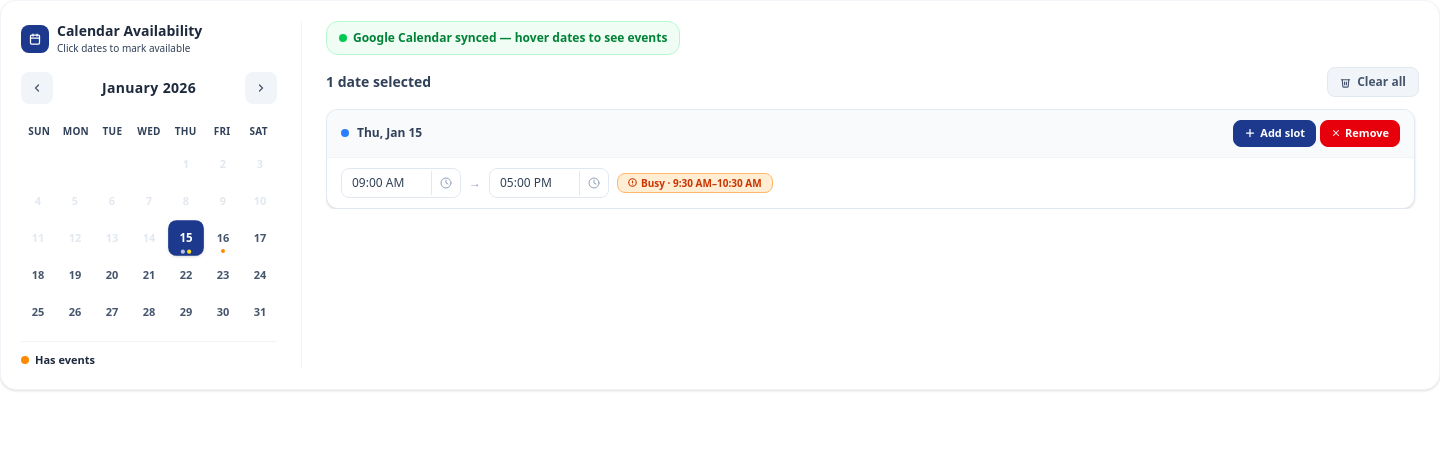
Test: CalendarAvailabilitySection component › handles fetch events and busy slots on mount when connected, filters and lists them
Check: the text "Busy · 9:30 AM–10:30 AM" is shown, box [617,172,773,192]
# Hover day 15 (which has indicators) to trigger tooltip rendering
Step 1. Hover over the button "15" → (186, 238), box [168,220,204,256]
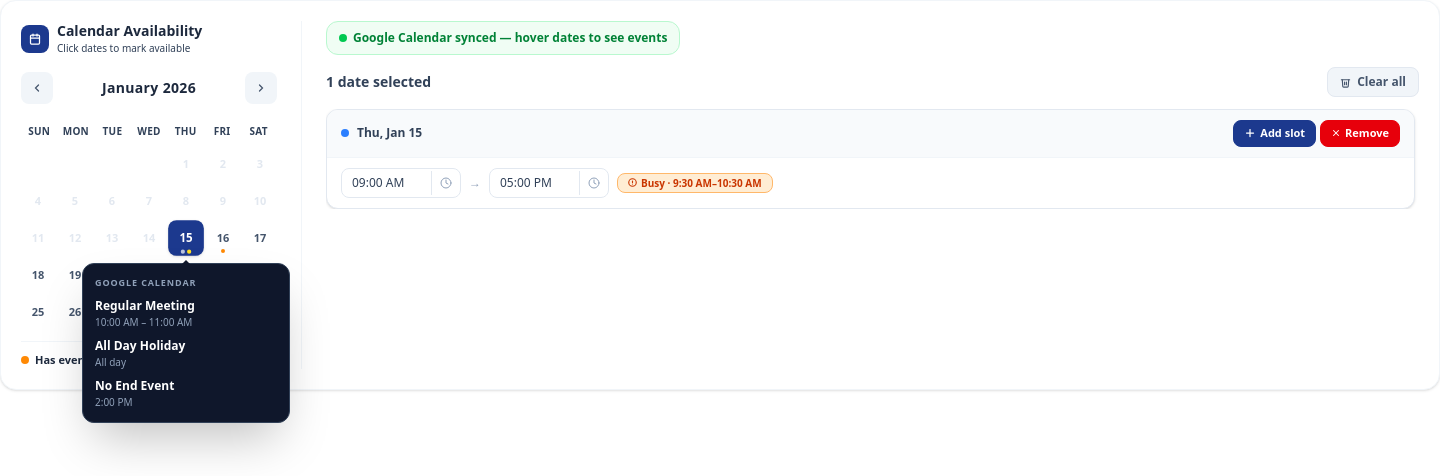
Check: the text "Regular Meeting" is shown, box [95,296,195,314]
Check: the text "All Day Holiday" is shown, box [95,336,185,354]
# Leave hover
Step 2. Move the pointer off the button "15", box [168,220,204,256]
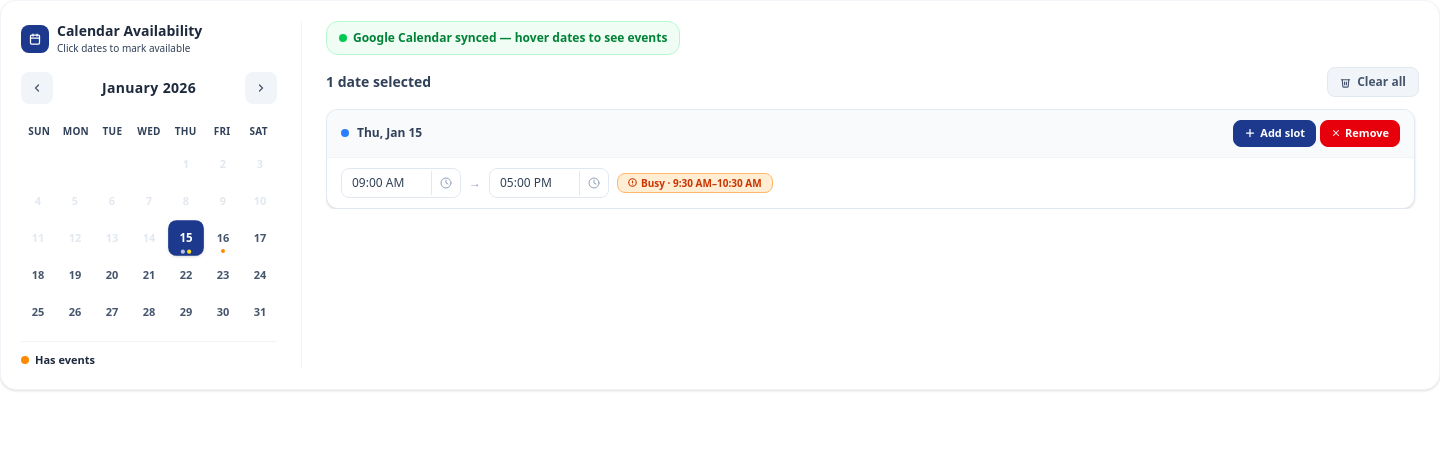
Check: the text "Regular Meeting" is gone
# Focus and blur checks
Step 3. Focus the button "15" → (186, 238), box [168,220,204,256]
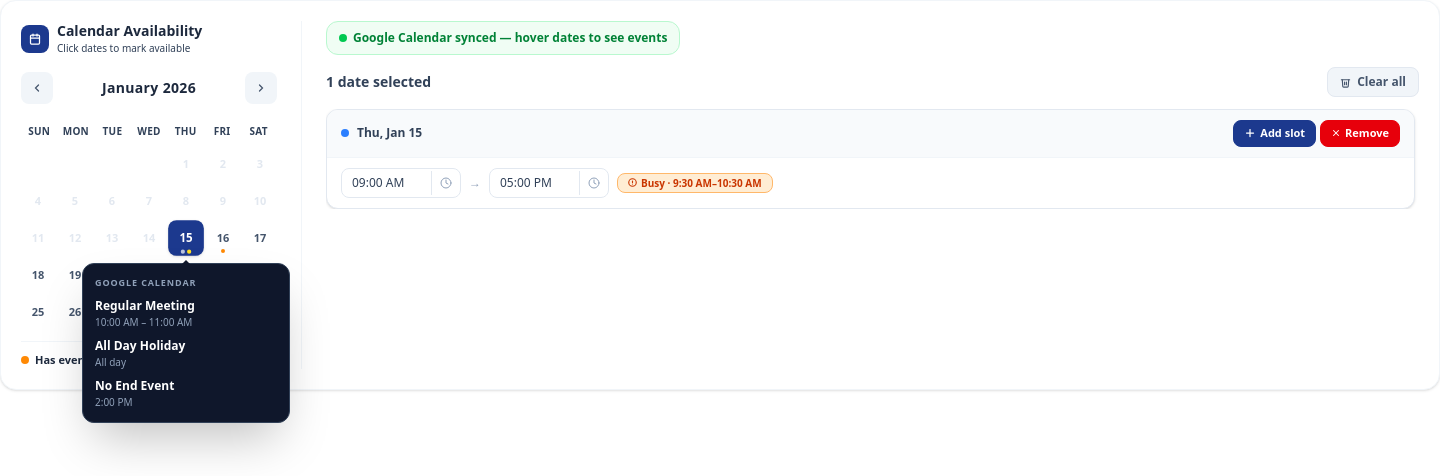
Check: the text "Regular Meeting" is shown, box [95,296,195,314]
Step 4. Leave the button "15", box [168,220,204,256]
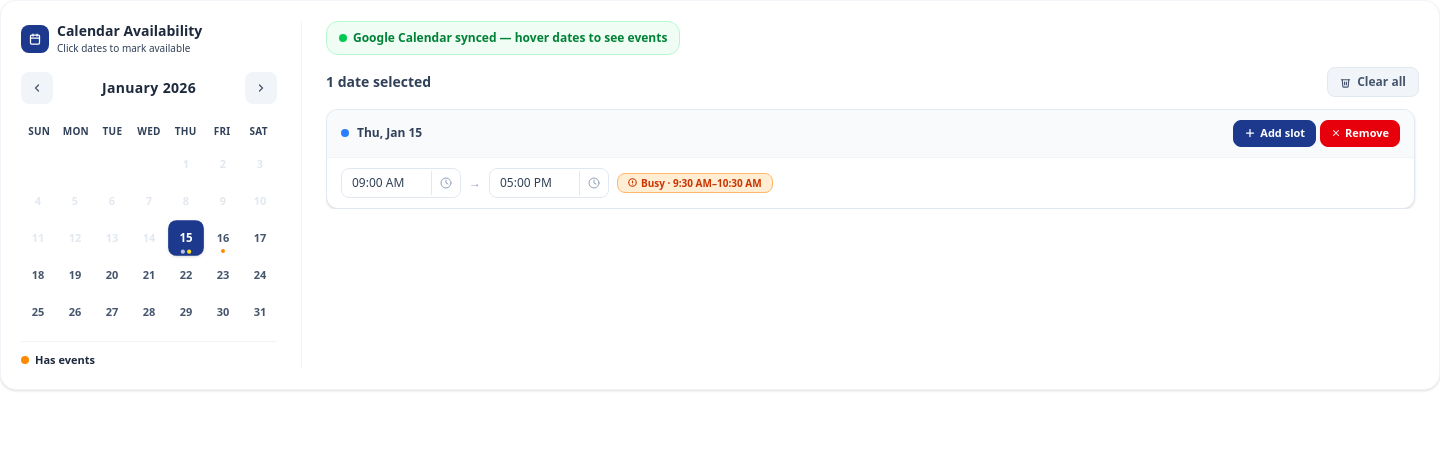
Check: the text "Regular Meeting" is gone
